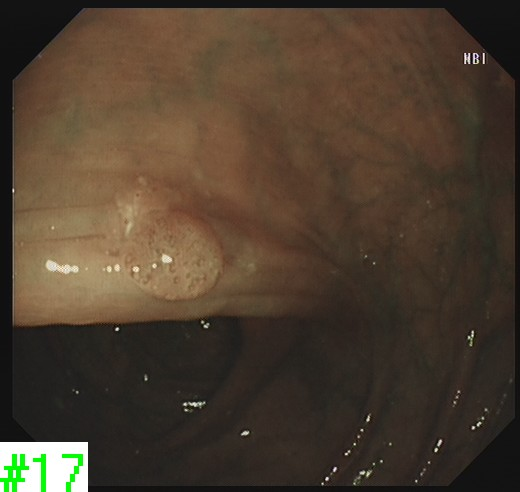adenoma: (122, 205, 225, 304)
